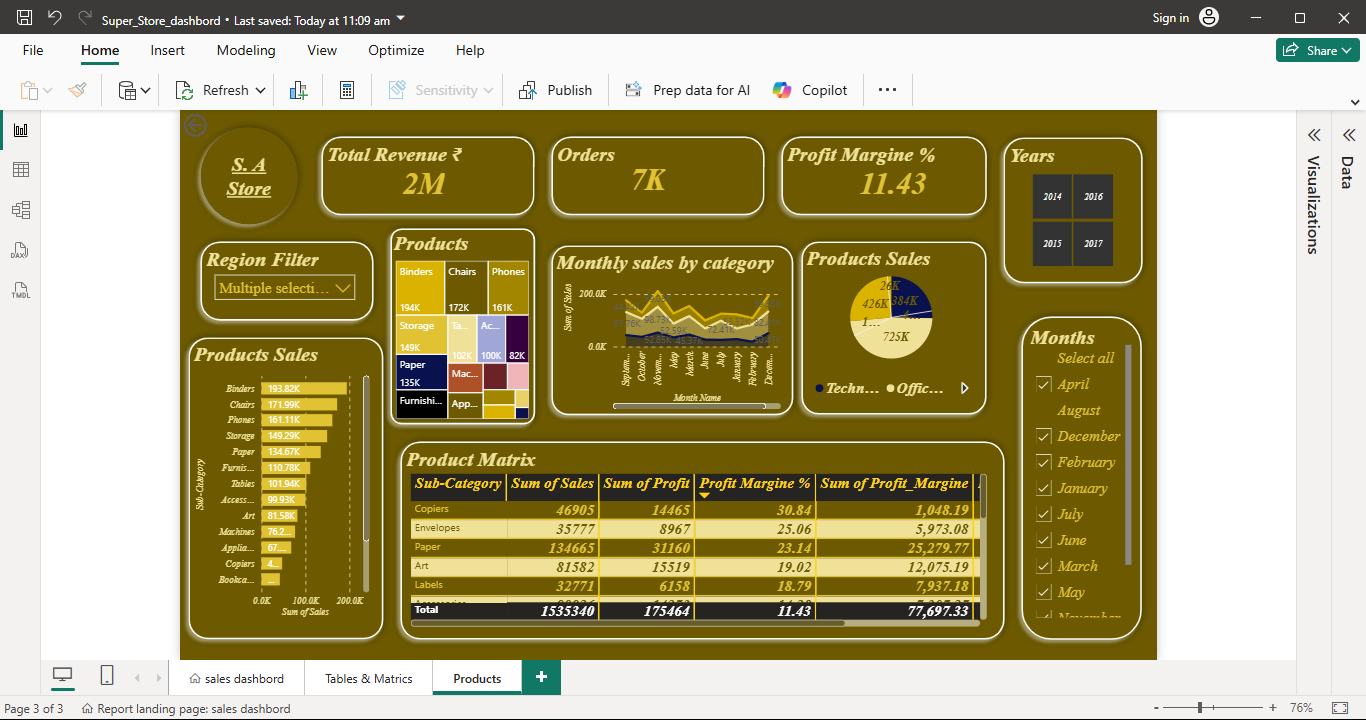

Layout of this report page (visuals, bound fields, positions):
{"tool":"powerbi","page":{"name":"Products","canvas":[1280,720],"ordinal":2},"visuals":[{"type":"shape","box":[174.2,23,301,125.3],"z":0},{"type":"shape","box":[15.1,11.8,149.5,149.5],"z":1000},{"type":"cardVisual","fields":{"Data":["Sum(Sales.Sales)"]},"box":[226.1,59,185.8,73.4],"z":2000},{"type":"shape","box":[475.2,23,301,125.3],"z":3000},{"type":"cardVisual","fields":{"Data":["Sales.Total Orders"]},"box":[506.9,59,211.7,63.4],"z":4000},{"type":"shape","box":[776.2,23,290.9,125.3],"z":5000},{"type":"cardVisual","fields":{"Data":["Sales.Profit Margine %"]},"box":[803.5,59,259.2,73.4],"z":6000},{"type":"shape","box":[1067,24.6,204.2,213],"z":7000},{"type":"slicer","fields":{"Values":["Sales.Year"]},"box":[1089.8,77.5,154.9,133.8],"z":8000},{"type":"shape","box":[1089.8,258.8,179.6,445.4],"z":9000},{"type":"slicer","fields":{"Values":["Sales.Month Name"]},"box":[1107.4,302.4,142.6,367.2],"z":10000},{"type":"shape","box":[15.7,161.4,248.6,125.7],"z":11000},{"type":"slicer","fields":{"Values":["Customers.Region"]},"box":[35.7,205.7,204.3,62.9],"z":12000},{"type":"shape","box":[0,287.1,277.1,417.1],"z":13000},{"type":"clusteredBarChart","fields":{"Category":["Orders.Sub-Category"],"Y":["Sum(Sales.Sales)"]},"box":[15.7,335.7,237.1,334.3],"z":14000},{"type":"shape","box":[802.9,161.4,264.3,248.6],"z":15000},{"type":"pieChart","fields":{"Category":["Orders.Category"],"Y":["Sum(Sales.Sales)","Sum(Sales.Profit)"]},"box":[824.3,192.9,212.9,194.3],"z":16000},{"type":"shape","box":[277.1,422.9,812.9,281.4],"z":17000},{"type":"pivotTable","fields":{"Rows":["Orders.Sub-Category"],"Values":["Sum(Sales.Sales)","Sum(Sales.Profit)","Sales.Profit Margine %","Sum(Sales.Profit_Margine)","Sales.Previous_Month_sales"]},"box":[297.1,471.4,764.3,210],"z":18000},{"type":"shape","box":[475.7,165.7,338.6,244.3],"z":19000},{"type":"stackedAreaChart","fields":{"Category":["Sales.Month Name"],"Y":["Sum(Sales.Sales)"],"Series":["Orders.Category"]},"box":[497.1,192.9,294.3,204.3],"z":20000},{"type":"actionButton","box":[0,0,100,40],"z":21000},{"type":"shape","box":[264.3,144.3,211.4,278.6],"z":22000},{"type":"treemap","fields":{"Group":["Orders.Sub-Category"],"Values":["Sum(Sales.Sales)"]},"box":[277.1,192.9,184.3,217.1],"z":23000}]}

Visuals, with their boxes on the page's 1280x720 design canvas (x1, y1, x2, y2). These are canvas units, not pixel positions in the 1366x720 screenshot, which may show the page scaled, cropped or inside an application window:
shape: detection(174, 23, 475, 148)
shape: detection(15, 12, 165, 161)
cardVisual - Sum(Sales.Sales): detection(226, 59, 412, 132)
shape: detection(475, 23, 776, 148)
cardVisual - Sales.Total Orders: detection(507, 59, 719, 122)
shape: detection(776, 23, 1067, 148)
cardVisual - Sales.Profit Margine %: detection(804, 59, 1063, 132)
shape: detection(1067, 25, 1271, 238)
slicer - Sales.Year: detection(1090, 78, 1245, 211)
shape: detection(1090, 259, 1269, 704)
slicer - Sales.Month Name: detection(1107, 302, 1250, 670)
shape: detection(16, 161, 264, 287)
slicer - Customers.Region: detection(36, 206, 240, 269)
shape: detection(0, 287, 277, 704)
clusteredBarChart - Orders.Sub-Category x Sum(Sales.Sales): detection(16, 336, 253, 670)
shape: detection(803, 161, 1067, 410)
pieChart - Orders.Category x Sum(Sales.Sales): detection(824, 193, 1037, 387)
shape: detection(277, 423, 1090, 704)
pivotTable - Orders.Sub-Category x Sum(Sales.Sales): detection(297, 471, 1061, 681)
shape: detection(476, 166, 814, 410)
stackedAreaChart - Sales.Month Name x Sum(Sales.Sales): detection(497, 193, 791, 397)
actionButton: detection(0, 0, 100, 40)
shape: detection(264, 144, 476, 423)
treemap - Orders.Sub-Category x Sum(Sales.Sales): detection(277, 193, 461, 410)
